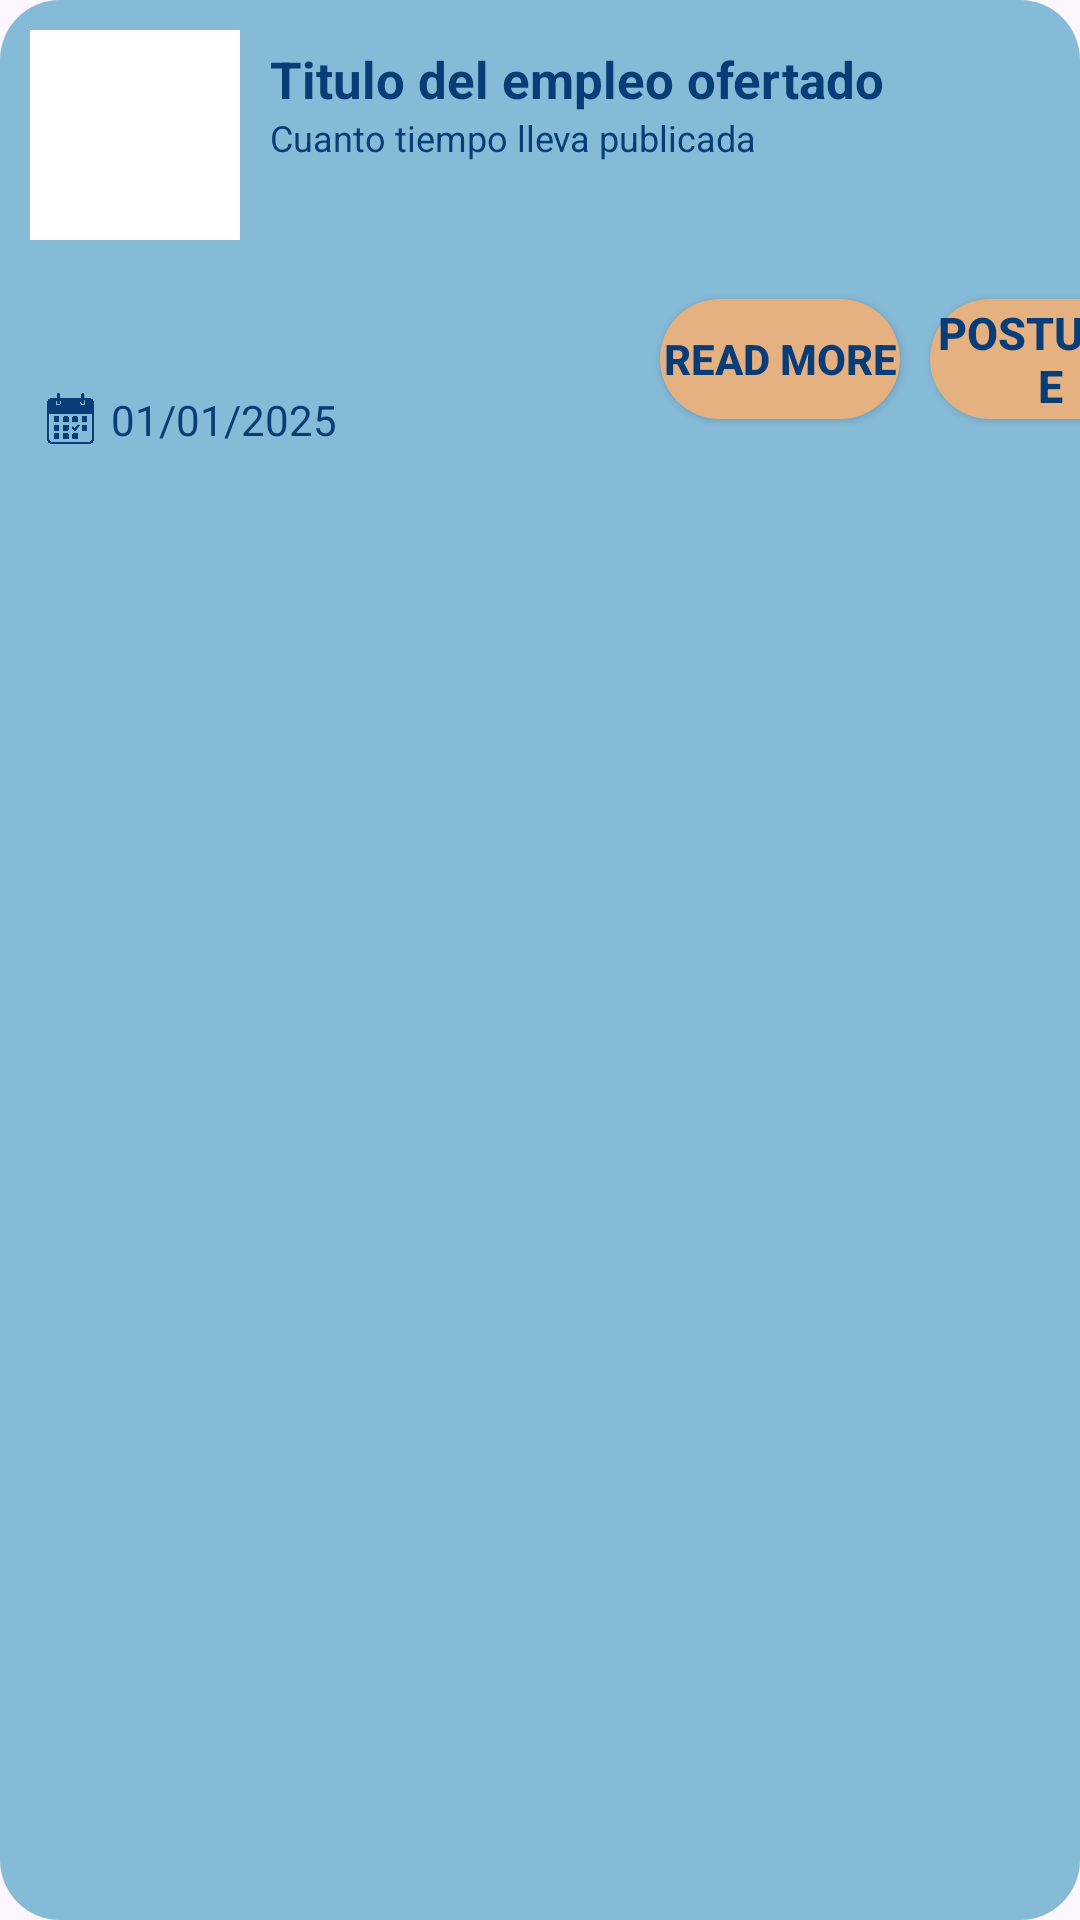

Named icons in this screenshot (1080px×1920px) and their centers, point (x, y):
calendar: point (70, 418)
